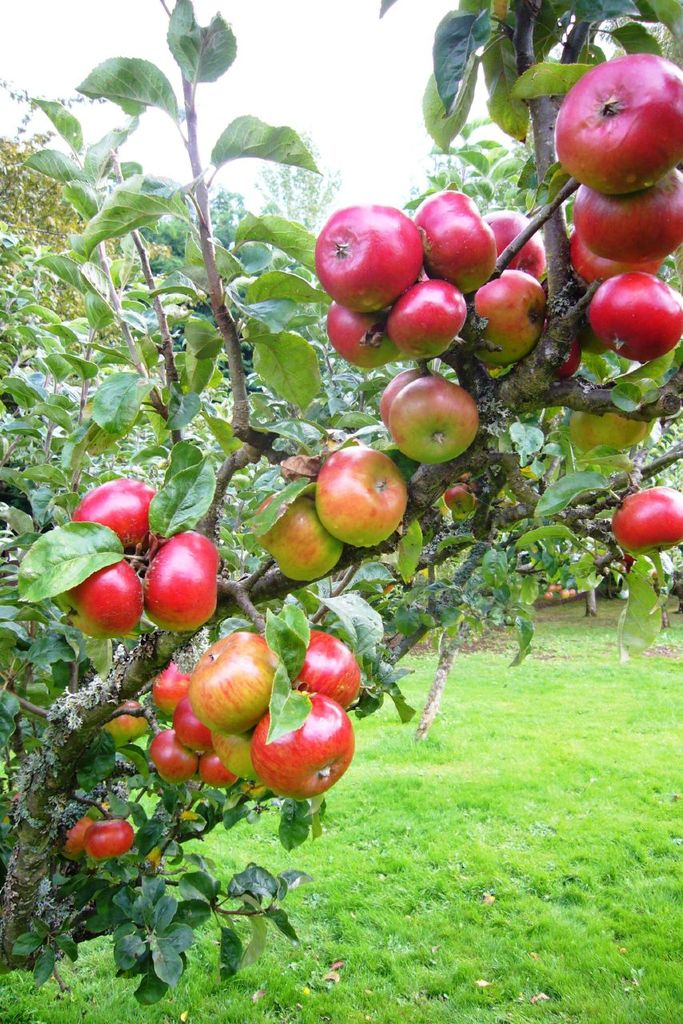Apple: (311, 54, 682, 469), (95, 629, 364, 803), (330, 189, 438, 304), (311, 448, 404, 550), (247, 487, 338, 582), (142, 532, 221, 636), (52, 557, 144, 642), (67, 480, 155, 556), (607, 487, 682, 559), (83, 818, 133, 856), (63, 819, 95, 856), (439, 483, 475, 515), (457, 476, 487, 494)
